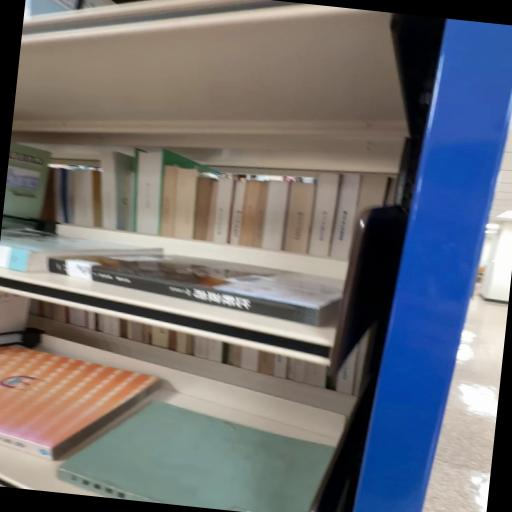flat: (58, 402, 333, 512), (49, 257, 344, 328), (1, 347, 161, 461)
